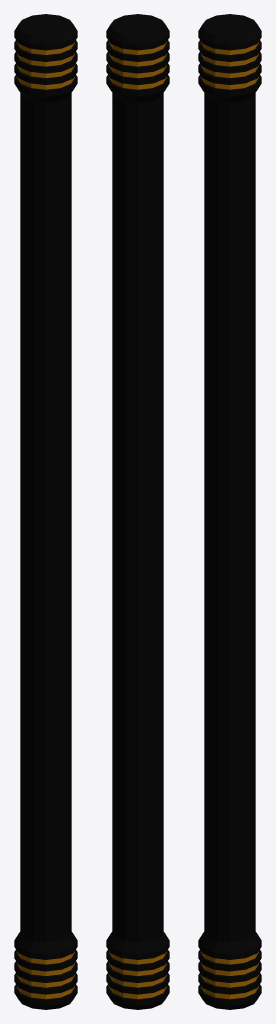
Rendered from Divine Staff.fbx.
3 views of the same model, side by side, from view 1: azimuth 90°, elevation 25°; view 2: azimuth 150°, elevation 25°; view 3: azimuth 270°, elevation 25° (orthographic).
Parts seen in each view (by area): view 1: Staff; view 2: Staff; view 3: Staff.
Part boxes in pixels (bbox=[...]): Staff: bbox=[14, 14, 77, 1009]; Staff: bbox=[106, 14, 169, 1009]; Staff: bbox=[198, 14, 261, 1009].
Size of the model in its own units: 149 by 2517 by 149.
